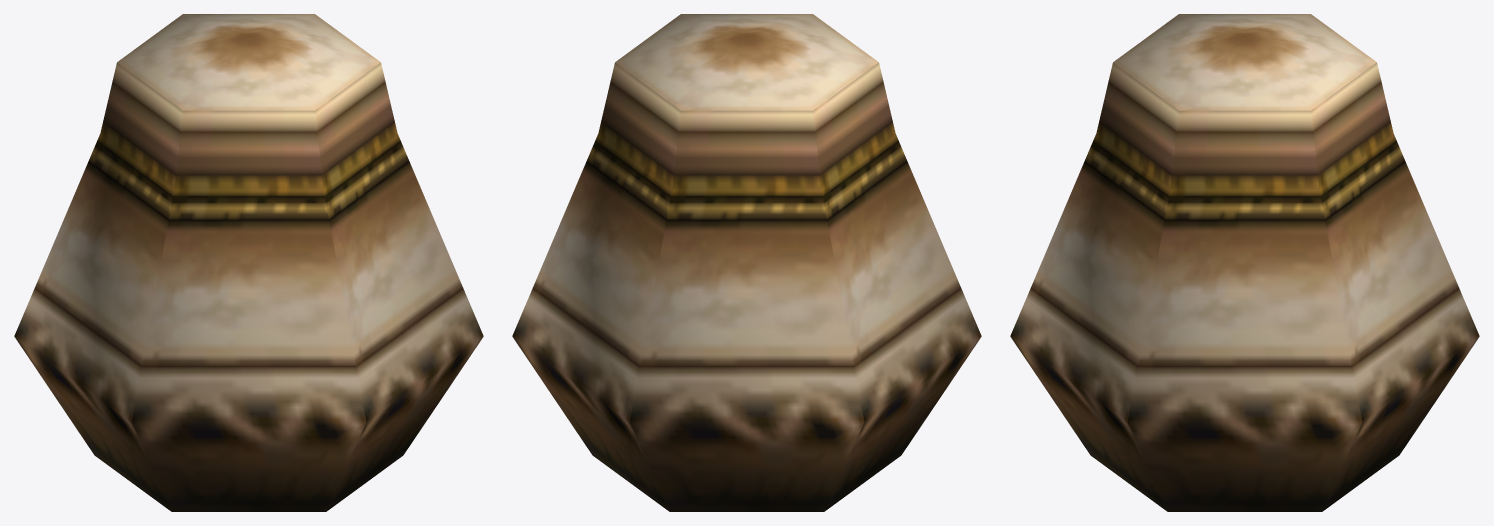
File: jar02.glb
The picture shows the model from 3 angles, left to right: view 1: azimuth 30°, elevation 25°; view 2: azimuth 150°, elevation 25°; view 3: azimuth 270°, elevation 25°; orthographic projection.
Size of the model in its own units: 0.4398 by 0.5002 by 0.5079.
1 material, 1 textured.
